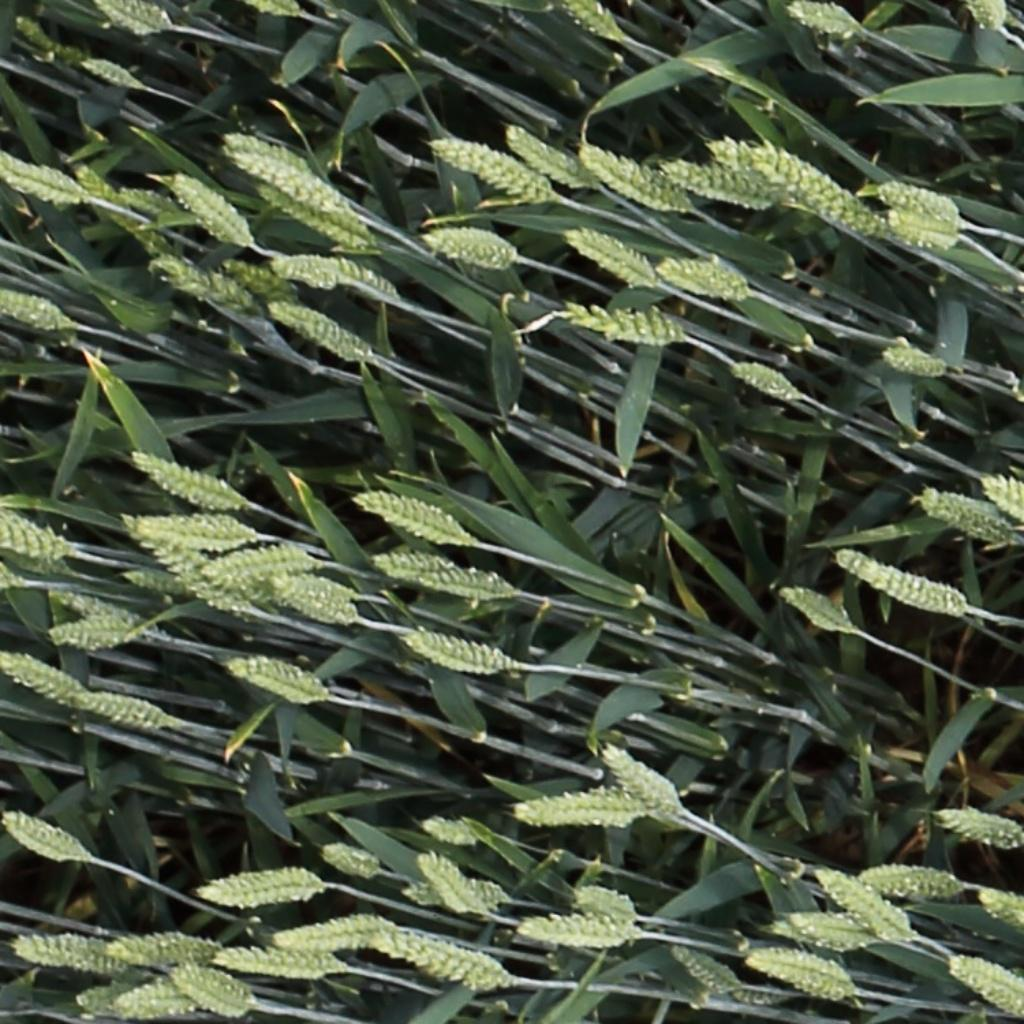0-0: (708, 132, 891, 233), (222, 125, 369, 220), (67, 157, 192, 265), (121, 536, 245, 616), (836, 550, 969, 617), (170, 530, 275, 605), (434, 135, 554, 199), (261, 182, 371, 250), (385, 931, 512, 988), (418, 224, 534, 285), (563, 223, 665, 291), (370, 551, 513, 598), (197, 854, 319, 909), (743, 940, 856, 999), (514, 784, 650, 833), (120, 509, 267, 553), (135, 450, 238, 512), (820, 871, 912, 940), (582, 147, 689, 206), (271, 300, 372, 360), (277, 913, 411, 958), (919, 481, 1014, 543), (170, 172, 252, 243), (506, 121, 598, 184), (602, 742, 681, 815), (359, 491, 471, 542), (652, 247, 754, 303), (271, 250, 400, 293), (566, 305, 685, 350), (662, 159, 779, 204), (223, 656, 328, 704), (145, 260, 243, 310), (48, 581, 146, 631), (205, 541, 327, 581), (177, 958, 263, 1013), (109, 975, 215, 1019), (412, 853, 487, 915), (109, 921, 216, 964), (1, 813, 88, 865), (0, 146, 88, 197), (853, 856, 962, 897), (273, 576, 360, 627), (0, 509, 85, 561), (404, 633, 512, 673), (940, 800, 1024, 851), (881, 208, 972, 255), (0, 651, 84, 701), (521, 913, 644, 946), (771, 911, 873, 950), (951, 958, 1022, 1013), (78, 693, 169, 735), (71, 967, 148, 1014), (787, 0, 870, 43), (15, 931, 122, 964), (671, 944, 741, 993), (217, 948, 335, 977), (780, 587, 856, 632), (12, 15, 81, 64), (95, 0, 175, 42), (398, 882, 512, 911), (48, 616, 140, 651), (567, 0, 635, 46), (0, 286, 72, 329), (879, 180, 962, 217), (731, 360, 804, 400), (222, 256, 294, 296), (974, 876, 1024, 931), (0, 541, 76, 573), (574, 886, 638, 923), (118, 187, 187, 221), (423, 812, 480, 847), (322, 846, 380, 880), (81, 54, 140, 87), (883, 348, 951, 375), (980, 477, 1024, 518), (242, 0, 308, 24), (969, 0, 1004, 38)
